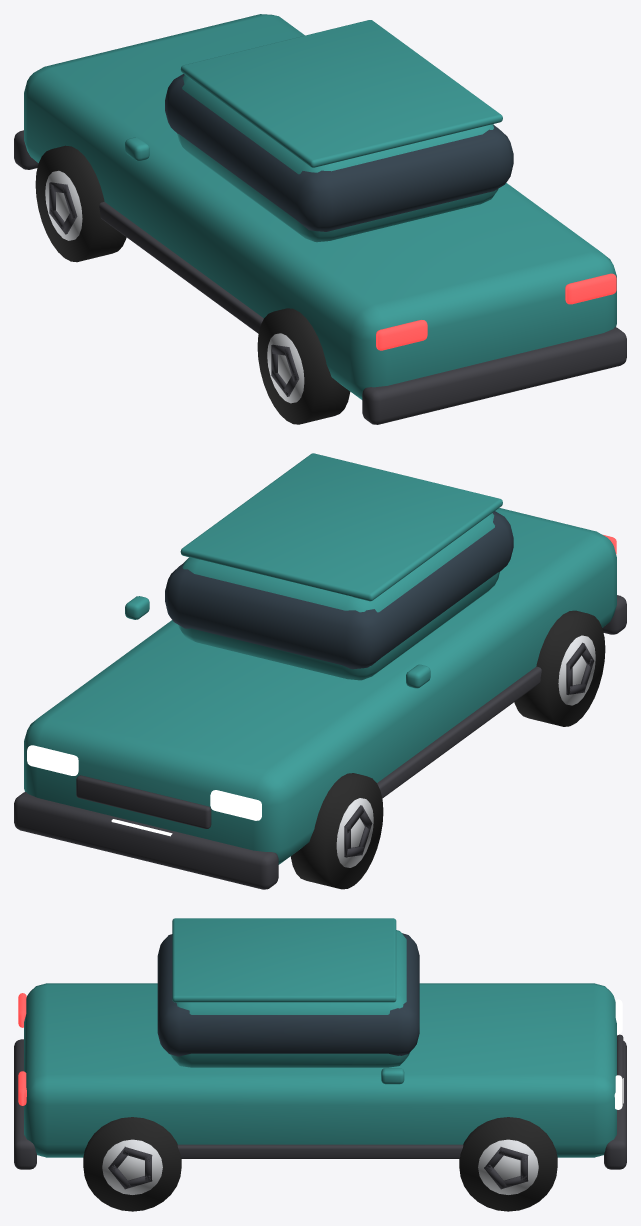
File: car.glb
3 views of the same model, one above another, from view 1: azimuth 30°, elevation 25°; view 2: azimuth 150°, elevation 25°; view 3: azimuth 270°, elevation 25° (orthographic). The views are drawn at different scales.
Visible parts, largest first — view 1: Body, Roof, Windows, Bumper_R, Wheel_RR, Cabin, Wheel_FR, Arch_-1, Tail_1, Tail_-1; view 2: Body, Roof, Windows, Bumper_F, Cabin, Wheel_FR, Wheel_RR, Grille, Arch_-1, Head_-1, Head_1; view 3: Body, Roof, Windows, Wheel_FL, Wheel_RL, Cabin, Arch_1, Bumper_R, Bumper_F.
Part boxes in pixels (x1,y1,x2,y2): Body: (24,14,616,399); Roof: (180,20,502,167); Windows: (165,74,513,231); Bumper_R: (362,327,626,424); Wheel_RR: (257,308,350,424); Cabin: (177,75,498,242); Wheel_FR: (35,145,126,262); Arch_-1: (99,202,263,333); Tail_1: (565,273,616,304); Tail_-1: (376,320,427,350); Body: (24,508,616,864); Roof: (180,453,502,601); Windows: (165,511,513,669); Bumper_F: (14,792,278,889); Cabin: (178,513,499,680); Wheel_FR: (290,773,383,889); Wheel_RR: (514,610,605,726); Grille: (76,775,211,828); Arch_-1: (377,666,541,798); Head_-1: (210,790,261,820); Head_1: (27,745,78,775); Body: (24,983,616,1157); Roof: (172,918,396,1002); Windows: (157,933,419,1056); Wheel_FL: (459,1117,557,1211); Wheel_RL: (83,1117,181,1211); Cabin: (170,930,409,1067); Arch_1: (177,1144,463,1158); Bumper_R: (14,1039,36,1169); Bumper_F: (604,1041,626,1169).
Bounding box in the file's own units: 2.01 × 1.49 × 4.24.
